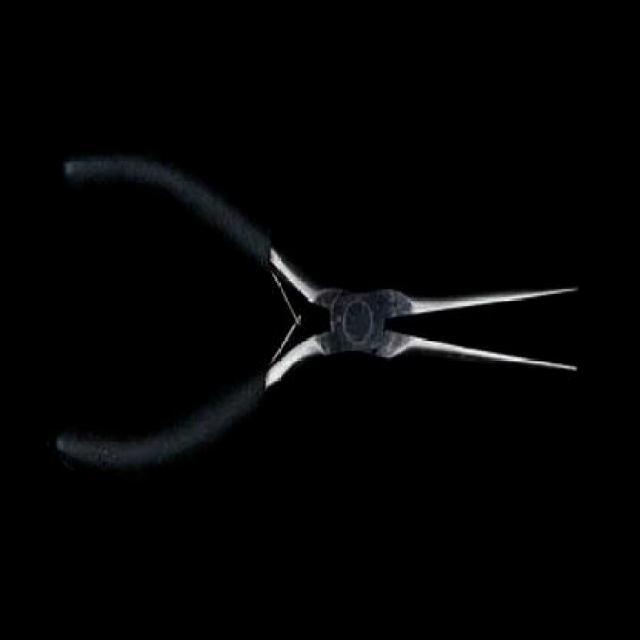pliers: (55, 145, 583, 478)
